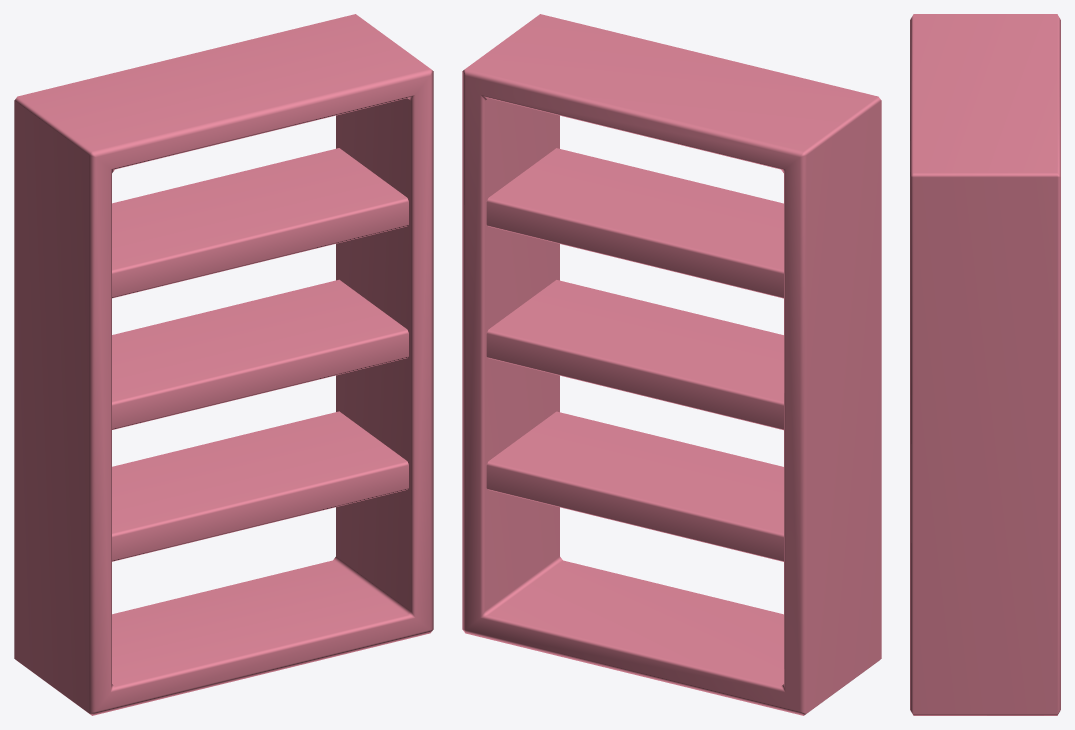
File: Cupboard_2.glb
3 renders of one model, left to right at view 1: azimuth 30°, elevation 25°; view 2: azimuth 150°, elevation 25°; view 3: azimuth 270°, elevation 25°, orthographic. The views are drawn at different scales.
Parts seen in each view (by area): view 1: Cupboard_2; view 2: Cupboard_2; view 3: Cupboard_2.
Part boxes in pixels (x1,y1,x2,y2): Cupboard_2: (14,14,433,715); Cupboard_2: (462,14,881,715); Cupboard_2: (910,14,1060,715).
Bounding box in the file's own units: 1.46 × 2.29 × 0.577.
1 material, 1 textured.
